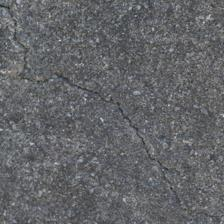Crack: (122, 103, 220, 219), (6, 8, 114, 103)
